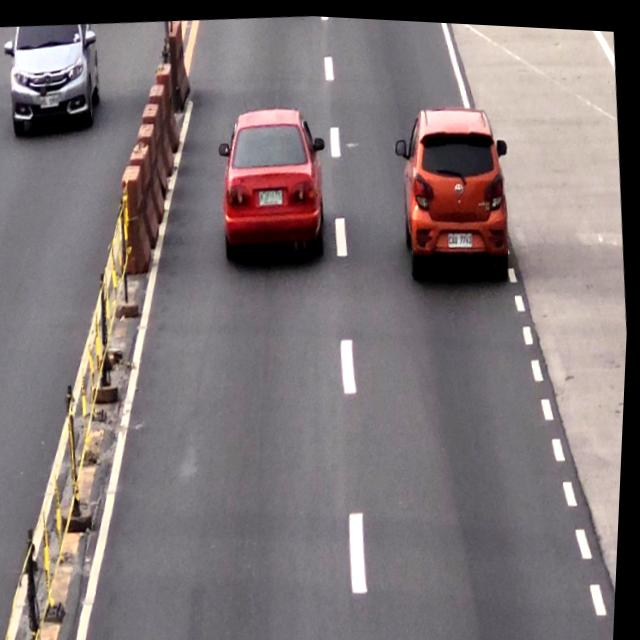Car: (396, 99, 520, 282), (211, 99, 334, 263)
License-Plate: (450, 222, 477, 245), (259, 185, 286, 205)
